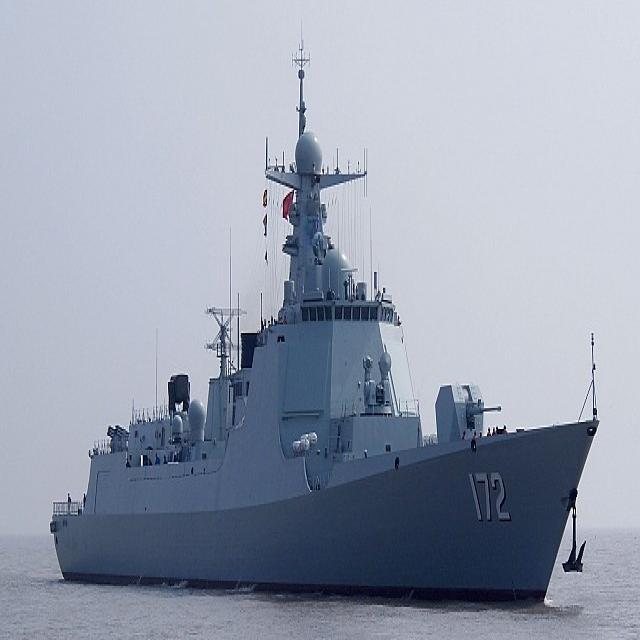Destroyer-Luyang-III-class-052-CHI: (45, 16, 599, 612)
